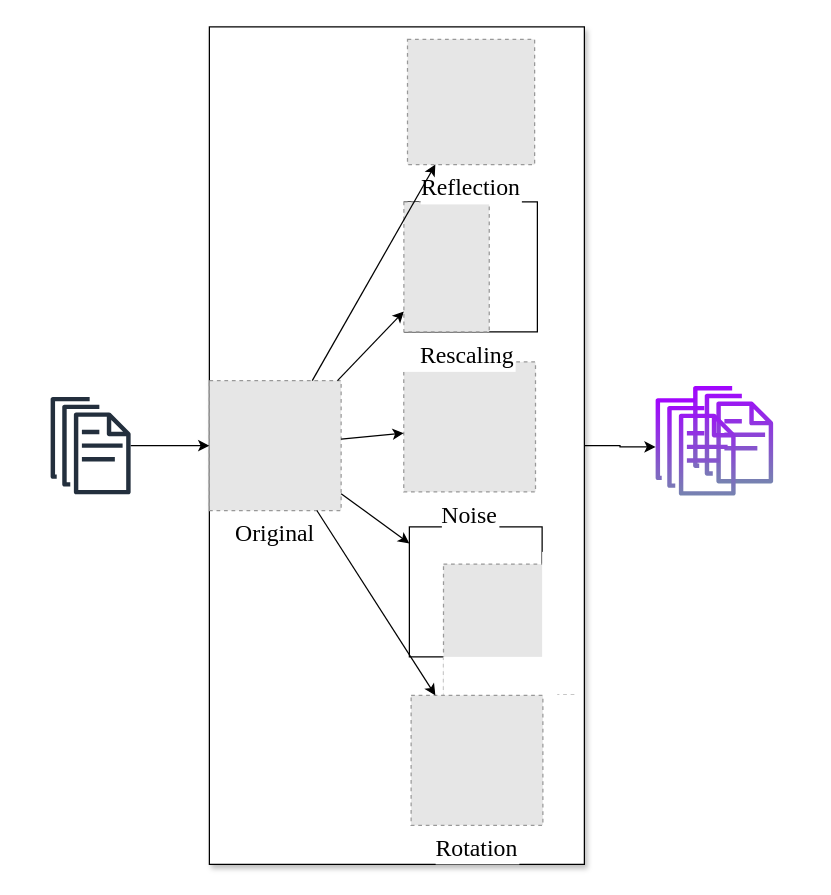
Image size: 831x895. Some labels were removed from this diagram. Grey dashed boxes stand in for pictures. The shapes that lost their labels are listed below. From the top down, each one's centre as x and y in pixels, then its label:
At [90,445]: "Training Data".
At [695,446]: "Augmented Data".
At [500,676]: "Translation".
